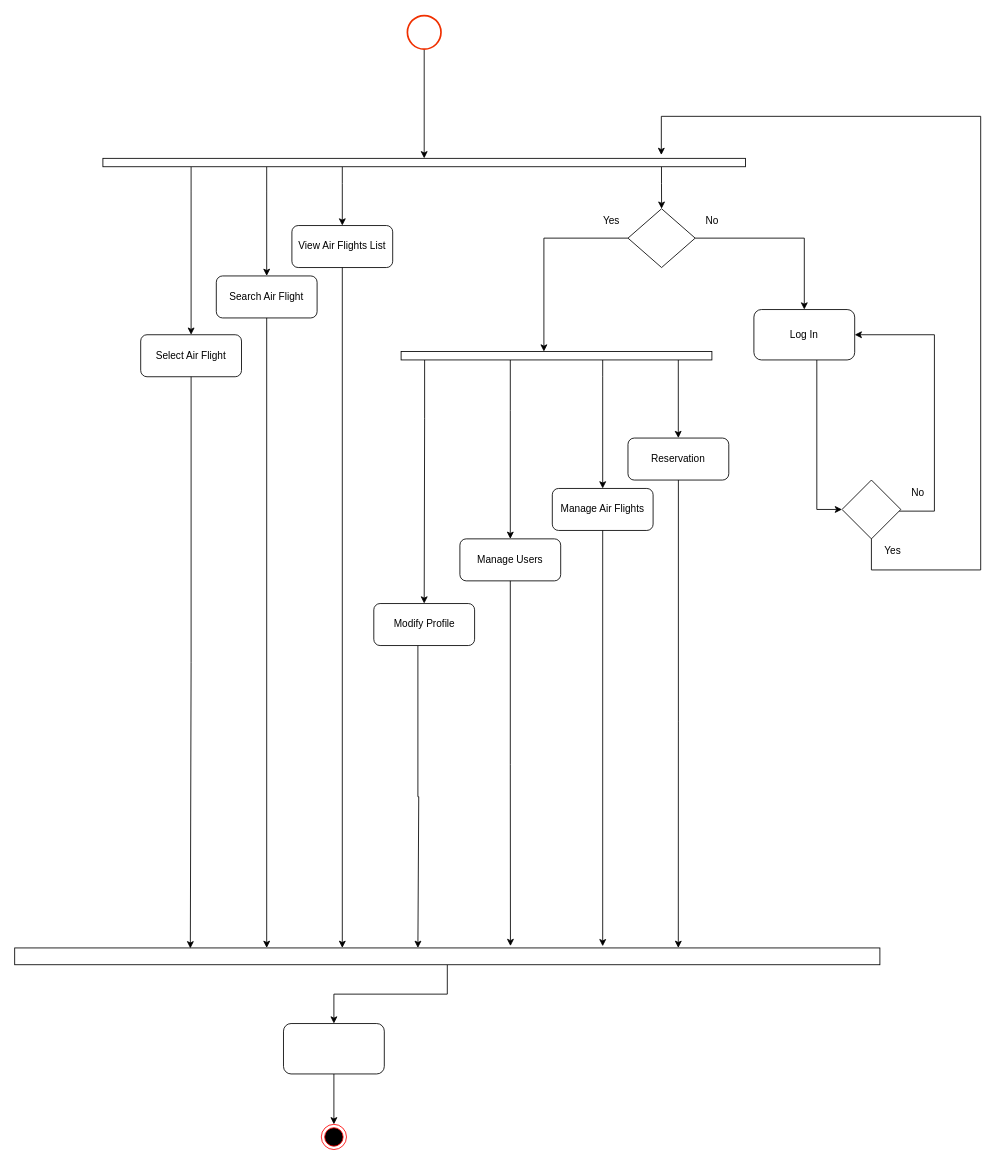
This 1002x1164 diagram has some shape labels left out. Each missing label, with the centre of its shape:
"isLogged" goes at pixel 661 238.
"Log Out" goes at pixel 333 1048.
"success" goes at pixel 871 509.
